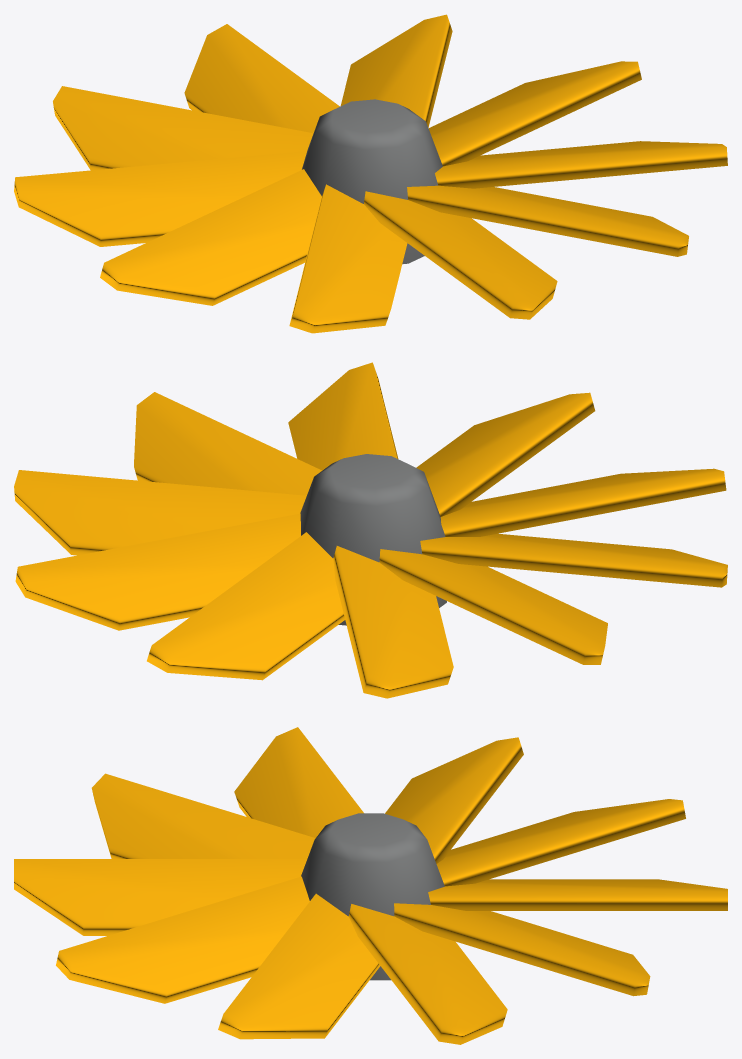
Rendered from Cargo_drone_004_propeller_001.fbx.
3 renders of one model, top to bottom at view 1: azimuth 30°, elevation 25°; view 2: azimuth 150°, elevation 25°; view 3: azimuth 270°, elevation 25°, orthographic. The views are drawn at different scales.
Visible parts, largest first — view 1: Cargo_drone_004_propeller_001; view 2: Cargo_drone_004_propeller_001; view 3: Cargo_drone_004_propeller_001.
Boxes of the visible parts, <box> form: Cargo_drone_004_propeller_001: <box>14,14,727,333</box>; Cargo_drone_004_propeller_001: <box>14,362,727,698</box>; Cargo_drone_004_propeller_001: <box>14,727,727,1044</box>.
Bounding box in the file's own units: 106 × 107 × 19.89.
